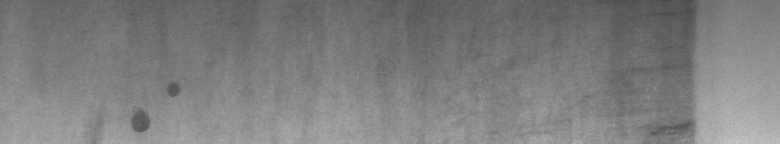fi: (98, 77, 186, 136)
